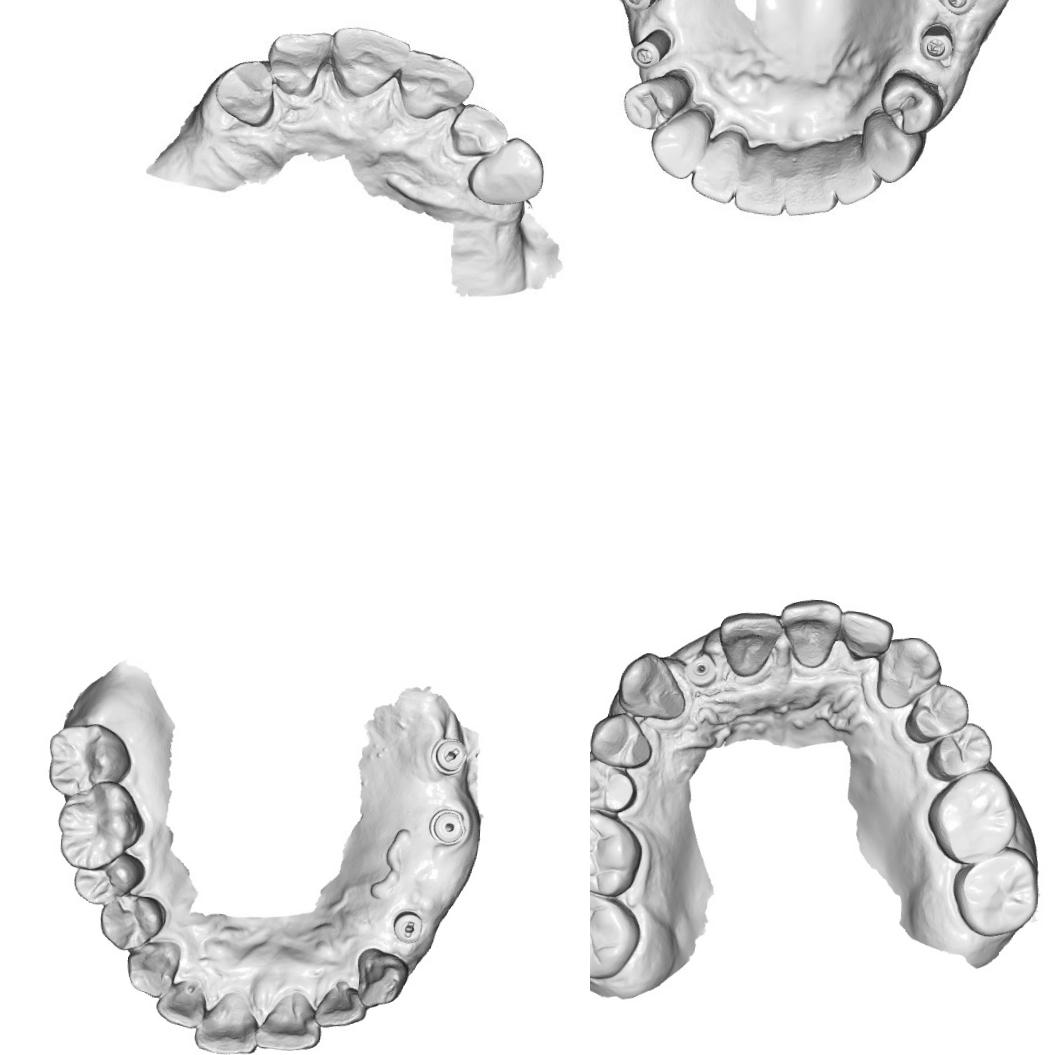canine: (464, 132, 541, 207), (870, 632, 942, 712), (615, 652, 687, 724), (860, 109, 926, 184), (210, 57, 280, 126), (648, 108, 712, 182), (352, 945, 412, 1010), (123, 936, 182, 999)
implant: (624, 24, 674, 69), (424, 804, 470, 848), (915, 22, 956, 64), (679, 649, 722, 688), (934, 0, 985, 18), (621, 0, 663, 12)
implant_minus: (426, 734, 468, 777), (388, 906, 424, 945)
incisor: (392, 41, 475, 120), (329, 27, 406, 100), (714, 606, 782, 681), (776, 595, 843, 671), (191, 987, 263, 1055), (254, 990, 324, 1052), (266, 28, 330, 94), (834, 607, 896, 670), (782, 158, 842, 219), (448, 99, 506, 159), (686, 144, 740, 206), (732, 160, 785, 218), (312, 976, 368, 1030), (153, 976, 208, 1028), (834, 147, 882, 206)
molar: (920, 764, 1020, 868), (947, 841, 1042, 940), (54, 778, 146, 874), (46, 720, 134, 800), (590, 886, 643, 984), (590, 806, 646, 898)
premolar: (901, 678, 971, 749), (876, 68, 944, 136), (925, 718, 995, 784), (70, 849, 146, 908), (96, 890, 167, 952), (590, 710, 657, 771), (622, 70, 688, 130), (590, 754, 642, 814)
